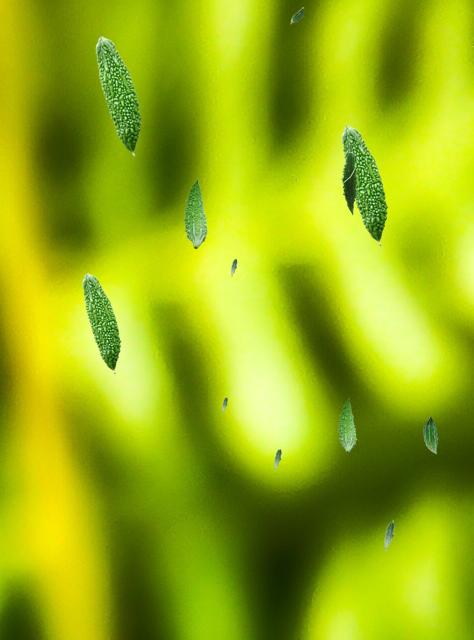ampalaya: (341, 125, 388, 246), (95, 36, 142, 157), (82, 272, 122, 374), (182, 177, 208, 249), (340, 144, 359, 215), (337, 397, 357, 453), (422, 415, 438, 454), (384, 519, 394, 551), (290, 7, 304, 24), (273, 447, 281, 471), (230, 257, 237, 277), (222, 395, 228, 413)
